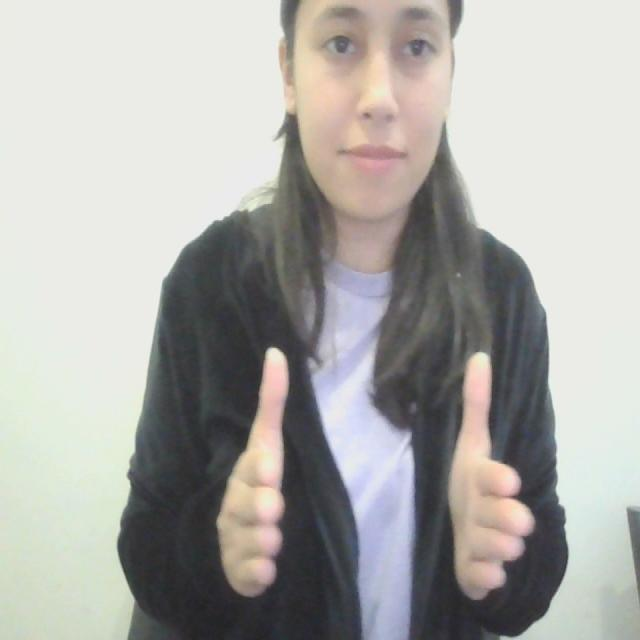Nasil: (208, 336, 546, 619)
